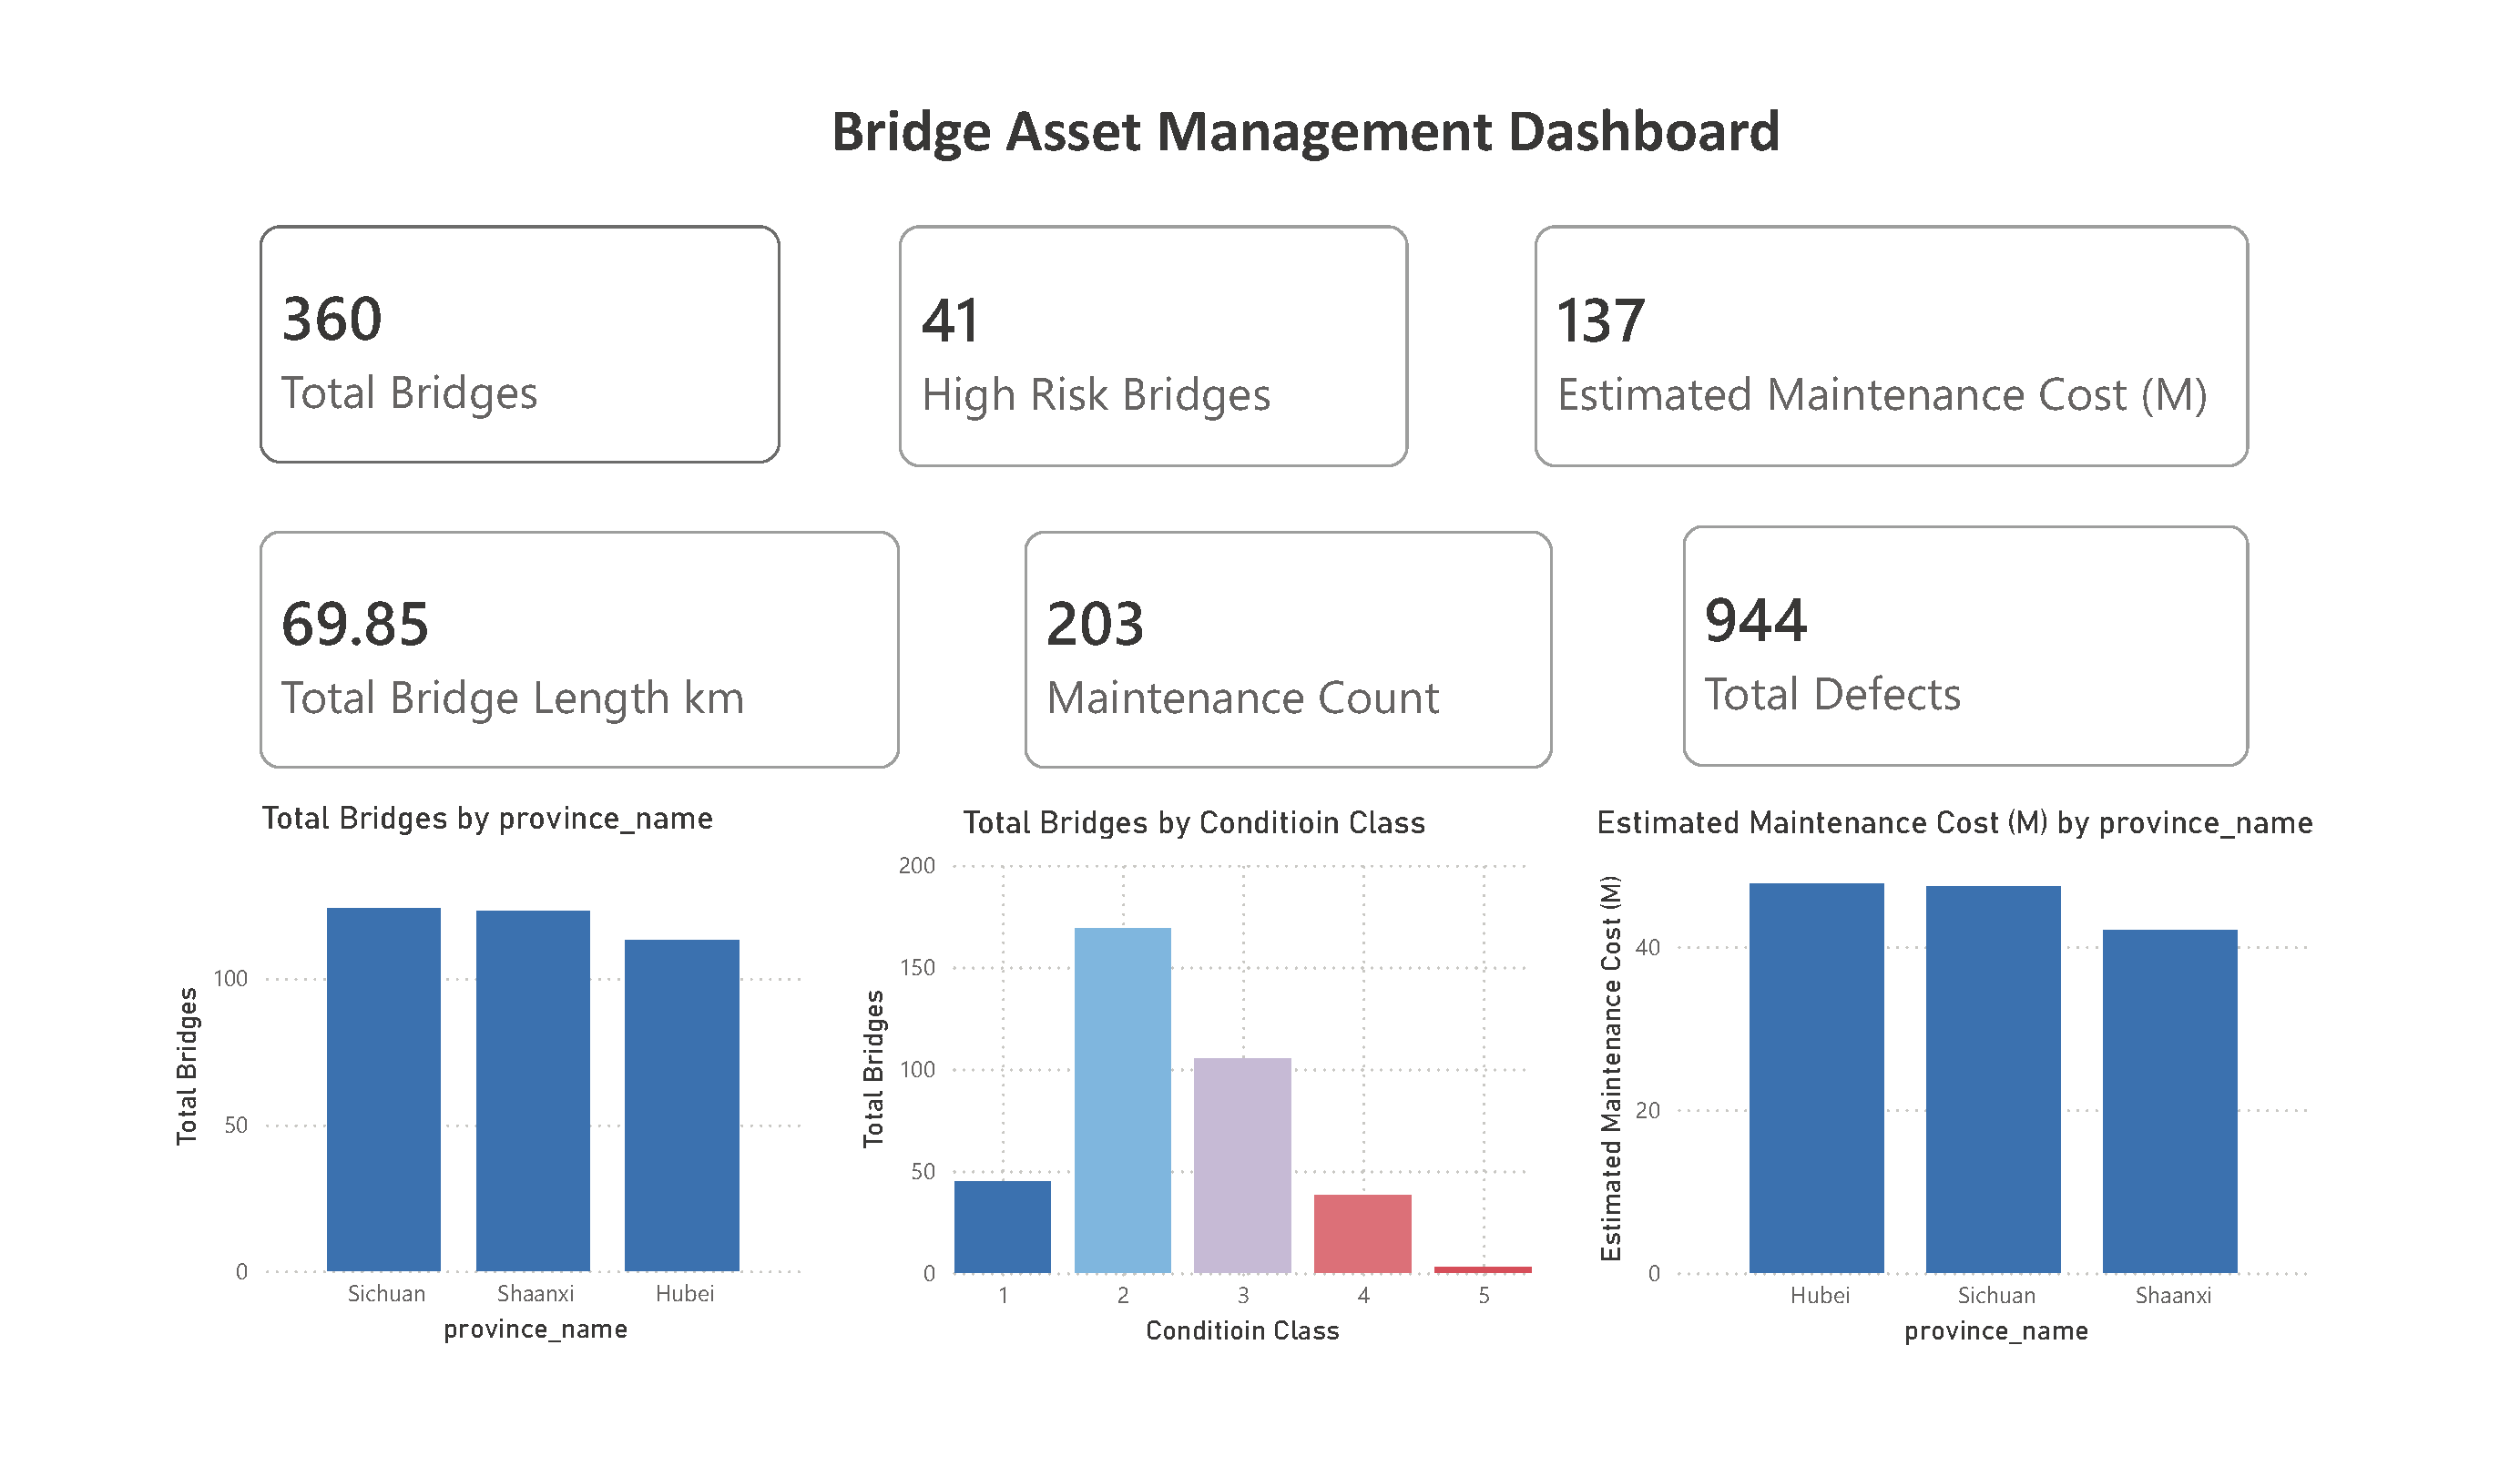

Layout of this report page (visuals, bound fields, positions):
{"tool":"powerbi","page":{"name":"Page 1","canvas":[1280,720],"ordinal":0},"visuals":[{"type":"cardVisual","fields":{"Data":["dim_bridge.Total Bridges"]},"box":[96.2,77.8,308.3,159.8],"z":0},{"type":"cardVisual","fields":{"Data":["dim_bridge.Total Bridge Length km"]},"box":[96.2,239,372,159.8],"z":1000},{"type":"columnChart","fields":{"Category":["dim_province.province_name"],"Y":["dim_bridge.Total Bridges"]},"box":[60.8,397.4,343.7,291.4],"z":2000},{"type":"cardVisual","fields":{"Data":["fact_inspection.High Risk Bridges"]},"box":[432.8,77.8,302.7,161.2],"z":3000},{"type":"clusteredColumnChart","fields":{"Category":["dim_province.province_name"],"Y":["fact_maintenance.Estimated Maintenance Cost (M)"]},"box":[811.8,398.9,389,291.4],"z":4000},{"type":"clusteredColumnChart","fields":{"Y":["dim_bridge.Total Bridges"],"Category":["dim_bridge.latest_condition_class"]},"box":[422.9,398.9,364.9,291.4],"z":5000},{"type":"textbox","box":[250.2,19.7,828.1,69.8],"z":6000},{"type":"cardVisual","fields":{"Data":["fact_maintenance.Estimated Maintenance Cost (M)"]},"box":[768,77.8,410.2,161.2],"z":7000},{"type":"cardVisual","fields":{"Data":["fact_maintenance.Maintenance Count"]},"box":[499.3,239,312.6,159.8],"z":8000},{"type":"cardVisual","fields":{"Data":["fact_defect.Total Defects"]},"box":[845.8,236.2,332.4,161.2],"z":9000}]}

Visuals, with their boxes on the page's 1280x720 design canvas (x1, y1, x2, y2). These are canvas units, not pixel positions in the 2520x1457 screenshot, which may show the page scaled, cropped or inside an application window:
cardVisual - dim_bridge.Total Bridges: 96:78:404:238
cardVisual - dim_bridge.Total Bridge Length km: 96:239:468:399
columnChart - dim_province.province_name x dim_bridge.Total Bridges: 61:397:404:689
cardVisual - fact_inspection.High Risk Bridges: 433:78:736:239
clusteredColumnChart - dim_province.province_name x fact_maintenance.Estimated Maintenance Cost (M): 812:399:1201:690
clusteredColumnChart - dim_bridge.Total Bridges x dim_bridge.latest_condition_class: 423:399:788:690
textbox: 250:20:1078:90
cardVisual - fact_maintenance.Estimated Maintenance Cost (M): 768:78:1178:239
cardVisual - fact_maintenance.Maintenance Count: 499:239:812:399
cardVisual - fact_defect.Total Defects: 846:236:1178:397
